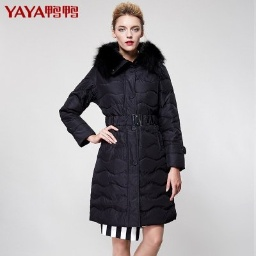face: (106, 1, 159, 55)
